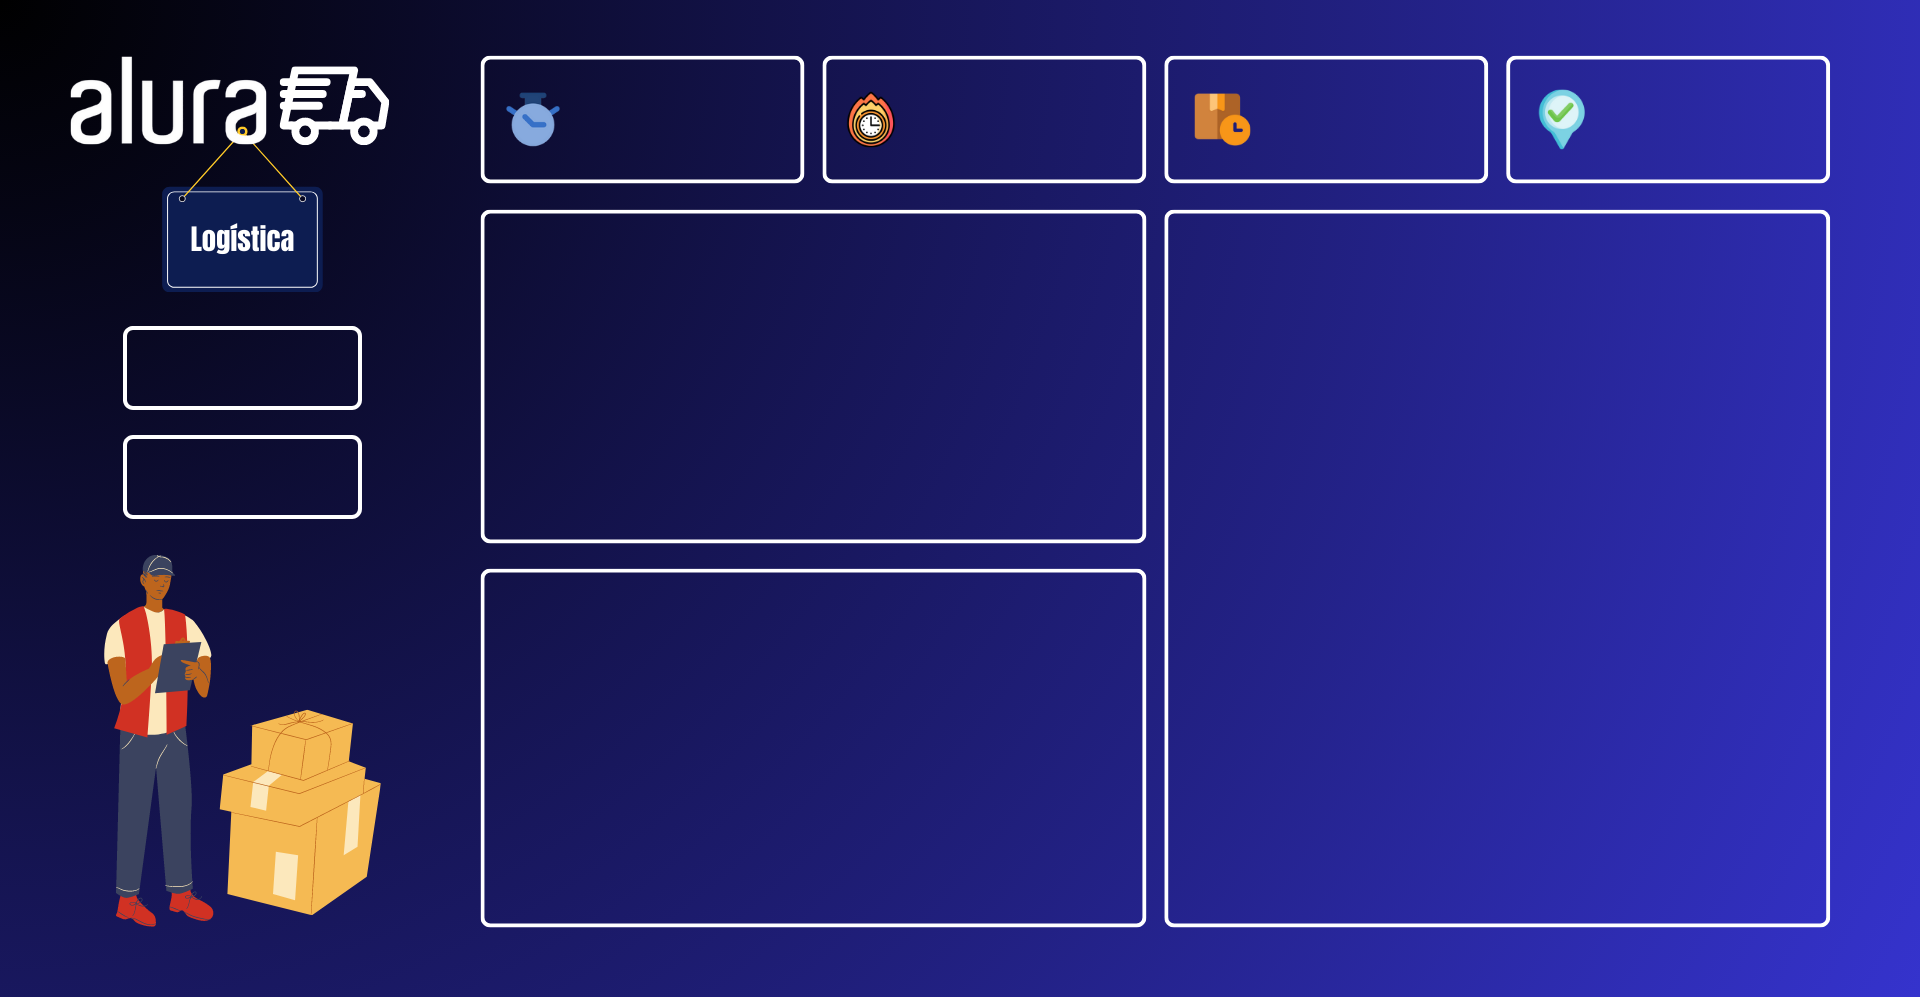

What the dashboard file says about the page in this screenshot:
{"tool":"powerbi","page":{"name":"Logística","canvas":[1280,720],"ordinal":0},"visuals":[{"type":"card","fields":{"Values":["Medidas.Atrasados"]},"box":[615.5,33.6,154.5,88.2],"z":0},{"type":"card","fields":{"Values":["Medidas.No Prazo"]},"box":[364.5,38.2,171.8,80],"z":1000},{"type":"card","fields":{"Values":["Medidas.Total de Pedidos"]},"box":[1090.9,35.5,160,82.7],"z":2000},{"type":"card","fields":{"Values":["Medidas.Entregues"]},"box":[852.7,35.5,159.1,85.5],"z":3000},{"type":"map","fields":{"Category":["Pedidos.UF da entrega","Pedidos.Latitude","Pedidos.Longitude"],"Size":["Sum(Pedidos.Quantidade)"],"Series":["Pedidos.País"]},"box":[812.7,191.8,457.3,474.5],"z":4000},{"type":"areaChart","fields":{"Category":["Pedidos.Data da compra.Variation.Hierarquia de datas.Mês"],"Y":["Avg(Pedidos.S2D)"]},"box":[326.4,199.1,446.4,181.8],"z":5000},{"type":"clusteredColumnChart","fields":{"Category":["Estoque.Data atualização.Variation.Hierarquia de datas.Ano"],"Y":["Avg(Estoque.Quantidade)"]},"box":[331.3,471.9,437.9,194.3],"z":6000},{"type":"actionButton","box":[62.7,331.8,156.4,49.1],"z":7000}]}

Visuals, with their boxes on the page's 1280x720 design canvas (x1, y1, x2, y2). These are canvas units, not pixel positions in the 1920x997 screenshot, which may show the page scaled, cropped or inside an application window:
card - Medidas.Atrasados: bbox(616, 34, 770, 122)
card - Medidas.No Prazo: bbox(364, 38, 536, 118)
card - Medidas.Total de Pedidos: bbox(1091, 36, 1251, 118)
card - Medidas.Entregues: bbox(853, 36, 1012, 121)
map - Pedidos.UF da entrega x Pedidos.Latitude: bbox(813, 192, 1270, 666)
areaChart - Pedidos.Data da compra.Variation.Hierarquia de datas.Mês x Avg(Pedidos.S2D): bbox(326, 199, 773, 381)
clusteredColumnChart - Estoque.Data atualização.Variation.Hierarquia de datas.Ano x Avg(Estoque.Quantidade): bbox(331, 472, 769, 666)
actionButton: bbox(63, 332, 219, 381)
